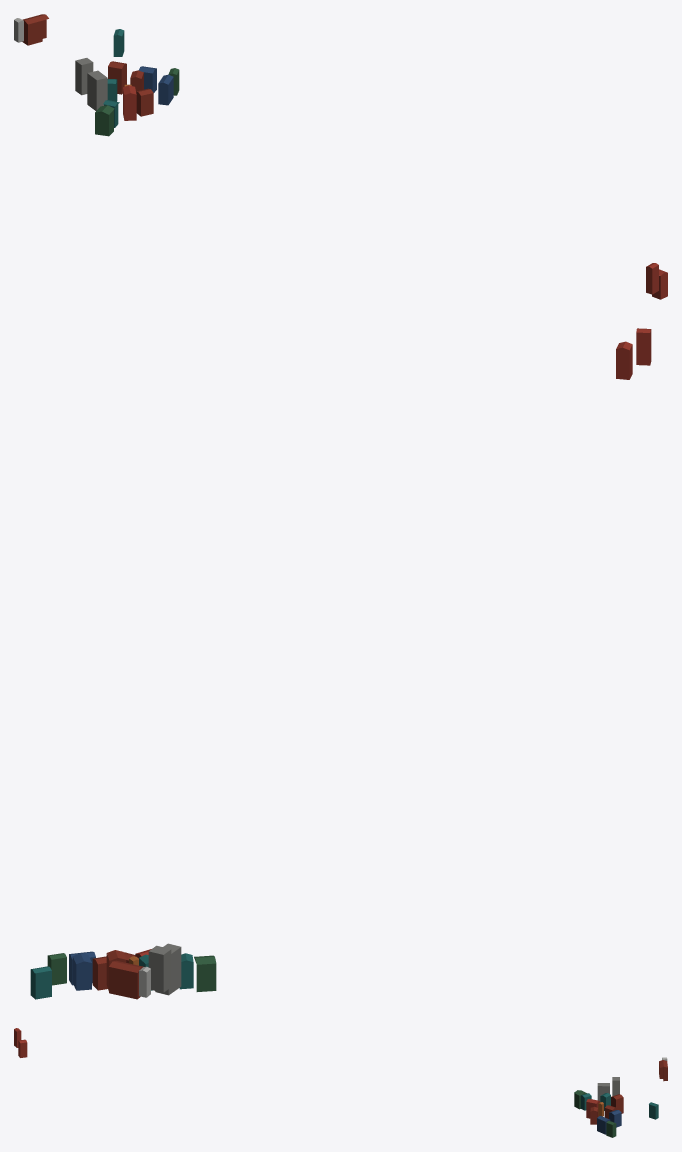
The model's file is near-15-27373-14865.9a4837b1.glb.
The picture shows the model from 3 angles, top to bottom: view 1: azimuth 30°, elevation 25°; view 2: azimuth 150°, elevation 25°; view 3: azimuth 270°, elevation 25°; orthographic projection. The views are drawn at different scales.
Bounding box in the file's own units: 120 × 143 × 780.
